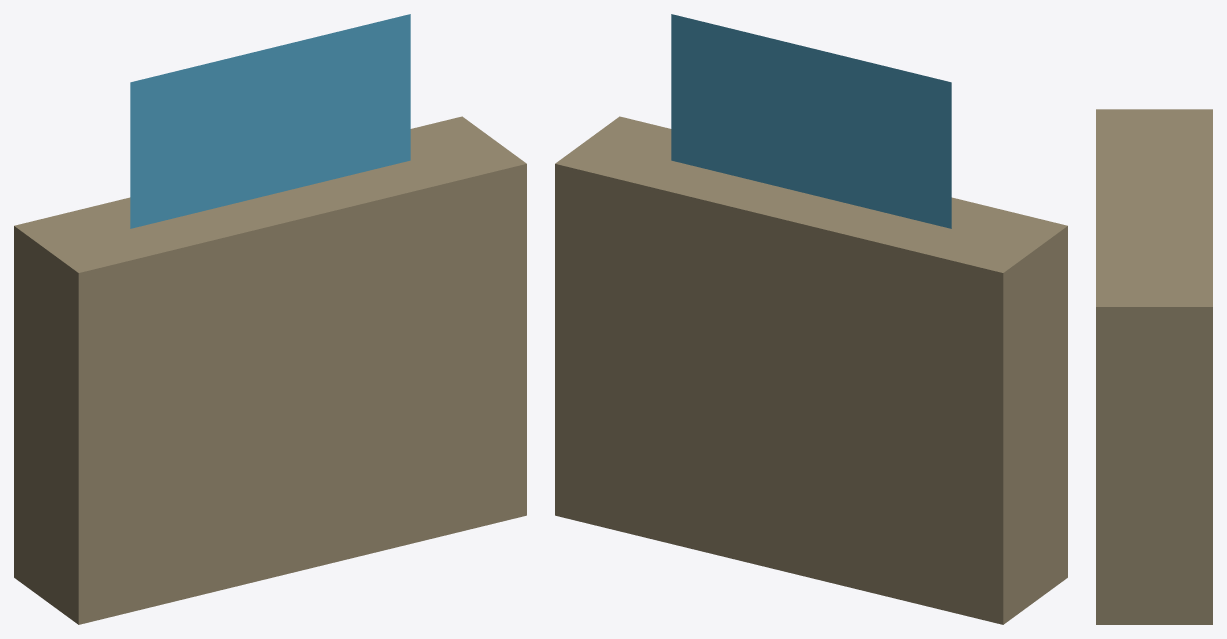
Rendered from lock.obj.
3 renders of one model, left to right at view 1: azimuth 30°, elevation 25°; view 2: azimuth 150°, elevation 25°; view 3: azimuth 270°, elevation 25°, orthographic. The views are drawn at different scales.
Visible parts, largest first — view 1: deploy_lock; view 2: deploy_lock; view 3: deploy_lock.
Boxes of the visible parts, x1,y1,x2,y2 form: deploy_lock: [14, 14, 526, 624]; deploy_lock: [555, 14, 1067, 624]; deploy_lock: [1096, 109, 1212, 624].
Bounding box in the file's own units: 0.32 × 0.34 × 0.08.
